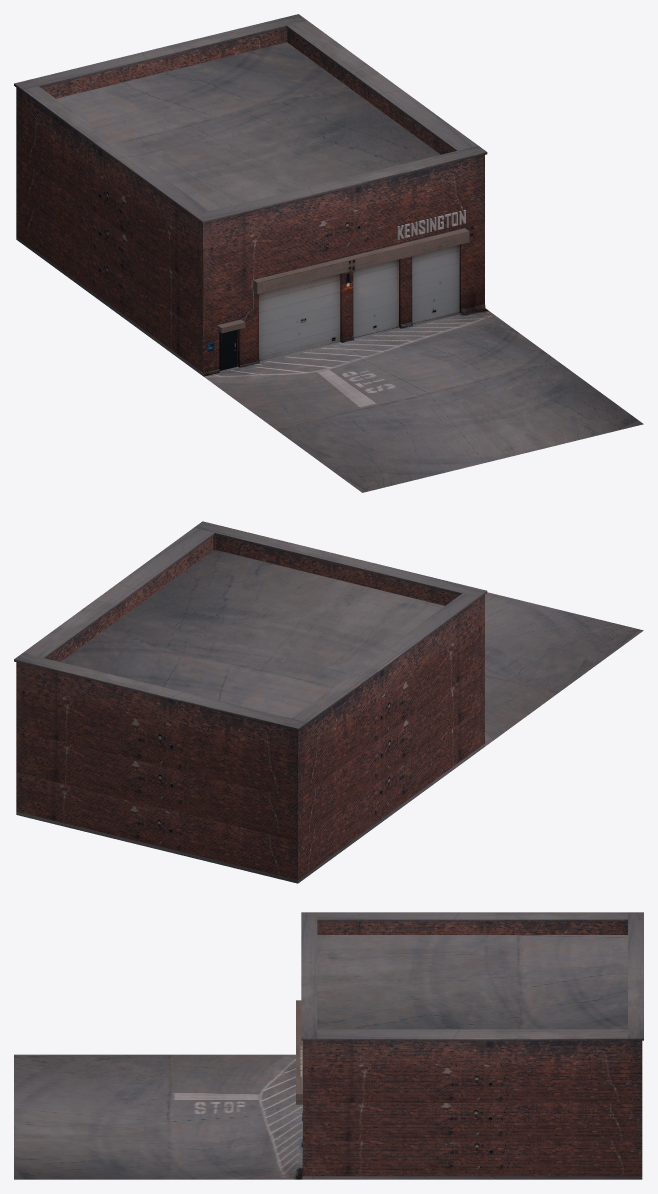
The model's file is 005_Facade_R01_Sketchfab.fbx.
3 renders of one model, top to bottom at view 1: azimuth 30°, elevation 25°; view 2: azimuth 150°, elevation 25°; view 3: azimuth 270°, elevation 25°, orthographic. The views are drawn at different scales.
Visible parts, largest first — view 1: Building, Text.001; view 2: Building; view 3: Building.
Boxes of the visible parts, x1,y1,x2,y2 form: Building: (14,14,643,492); Text.001: (397,210,465,239); Building: (14,521,643,883); Building: (14,912,643,1179).
Bounding box in the file's own units: 91.97 × 48.12 × 194.
